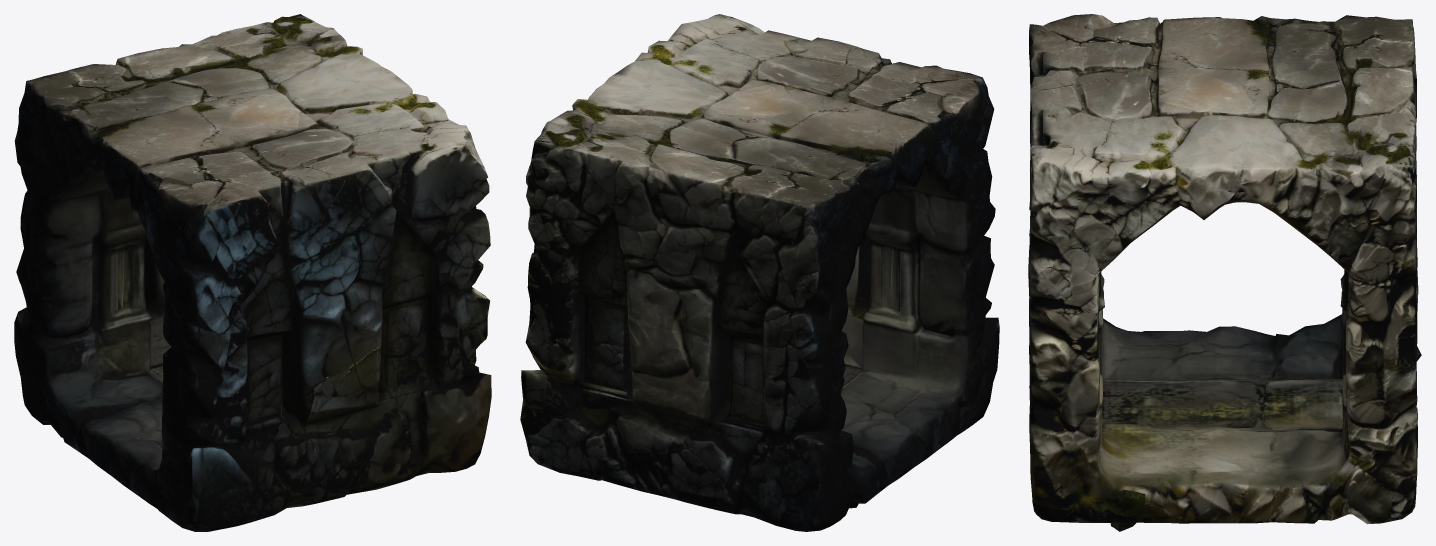
Rendered from tunnel2.fbx.
3 renders of one model, left to right at view 1: azimuth 30°, elevation 25°; view 2: azimuth 150°, elevation 25°; view 3: azimuth 270°, elevation 25°, orthographic. The views are drawn at different scales.
Visible parts, largest first — view 1: tripo_node_de3711a8; view 2: tripo_node_de3711a8; view 3: tripo_node_de3711a8.
Boxes of the visible parts, bbox=[...] form: tripo_node_de3711a8: bbox=[14, 14, 491, 531]; tripo_node_de3711a8: bbox=[520, 14, 999, 531]; tripo_node_de3711a8: bbox=[1028, 14, 1421, 531].
Bounding box in the file's own units: 0.9984 × 0.9911 × 0.9464.
Materials: 1 (1 with a texture image).
